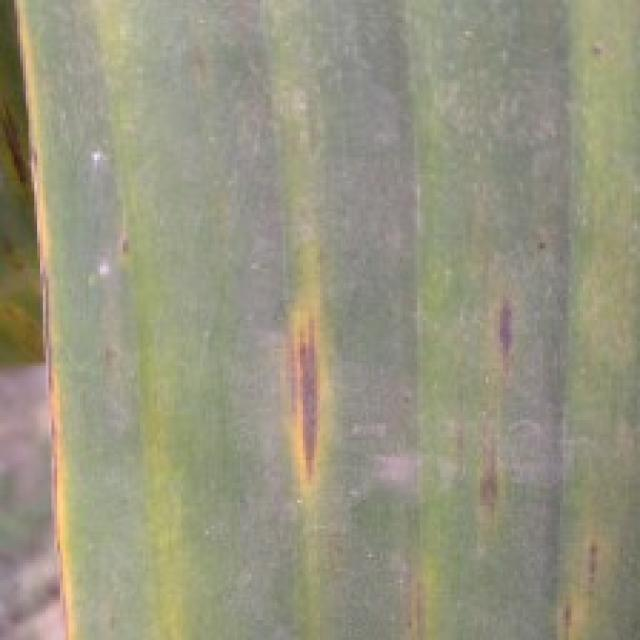Early_leaf_spot: (25, 223, 86, 630), (459, 285, 534, 549), (268, 264, 347, 496), (7, 2, 69, 230), (557, 510, 626, 640), (385, 527, 449, 640)
